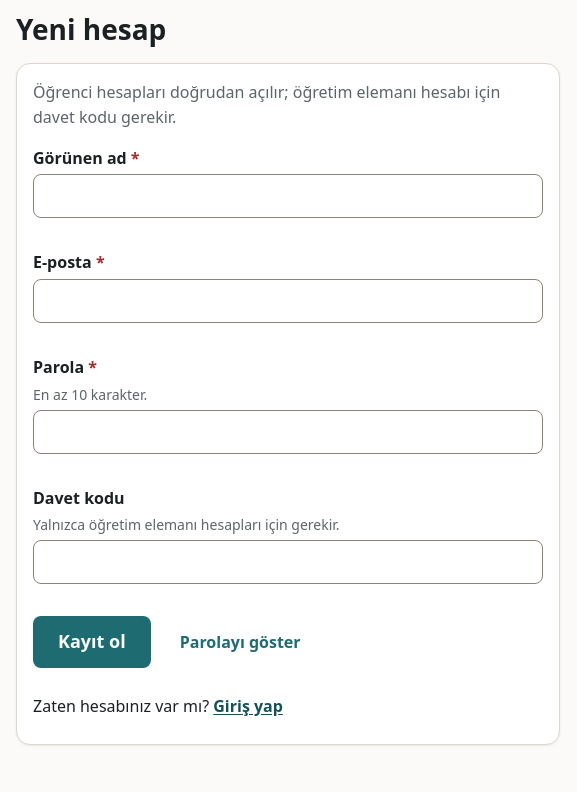
Test case: sign-up › refuses a password shorter than the API's minimum before sending it
The width and height of the screenshot is (577, 792).
Type "Ayşe" into the field labelled "Görünen ad *".
click(288, 196); type("Ayşe")  # box [33, 174, 543, 218]
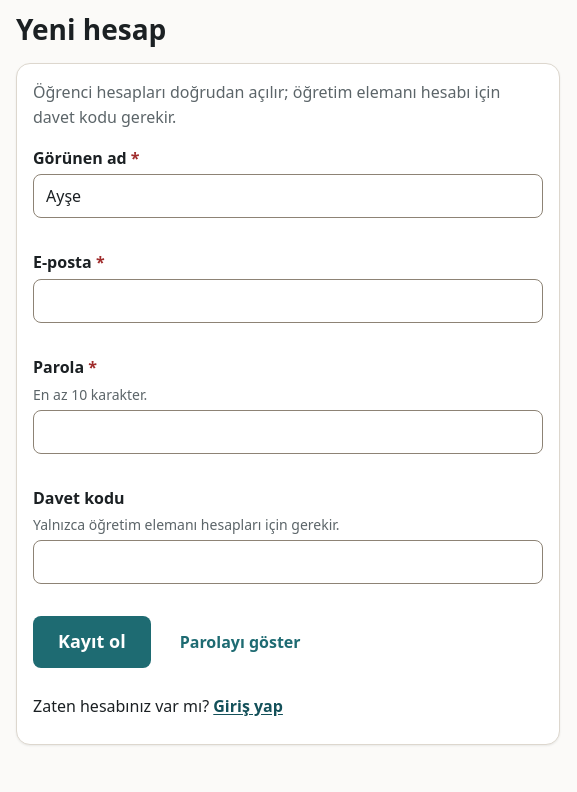
Type "a@ornek.edu.tr" into the field labelled "E-posta *".
click(288, 301); type("a@ornek.edu.tr")  # box [33, 279, 543, 323]
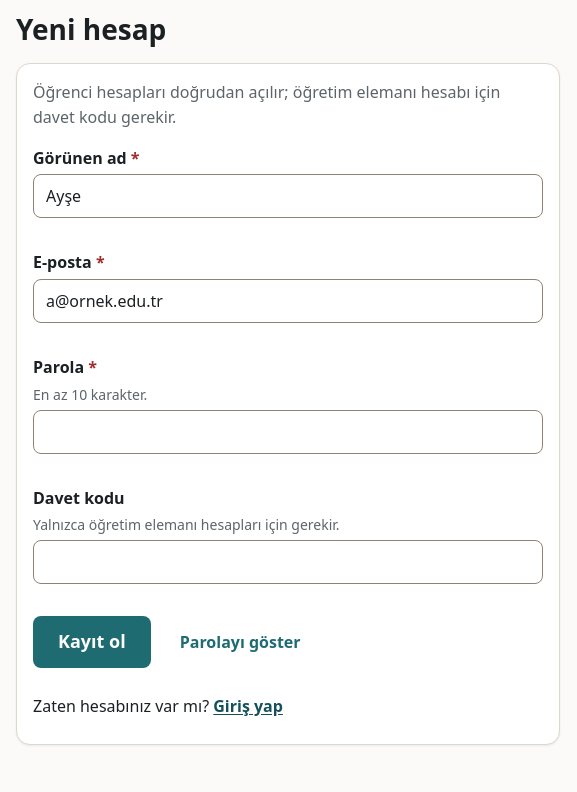
Type "kisa" into the password field labelled "Parola *".
click(288, 432); type("kisa")  # box [33, 410, 543, 454]
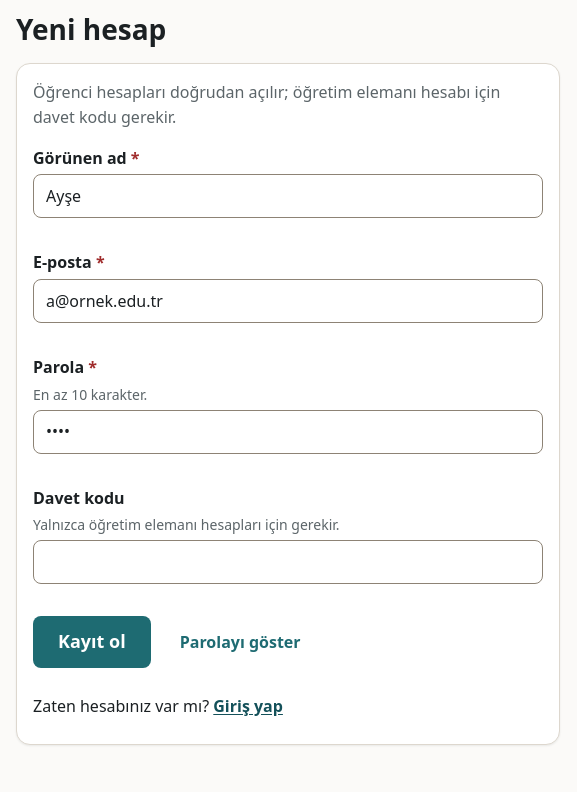
Click the button "Kayıt ol".
click(92, 642)  # box [33, 616, 151, 668]
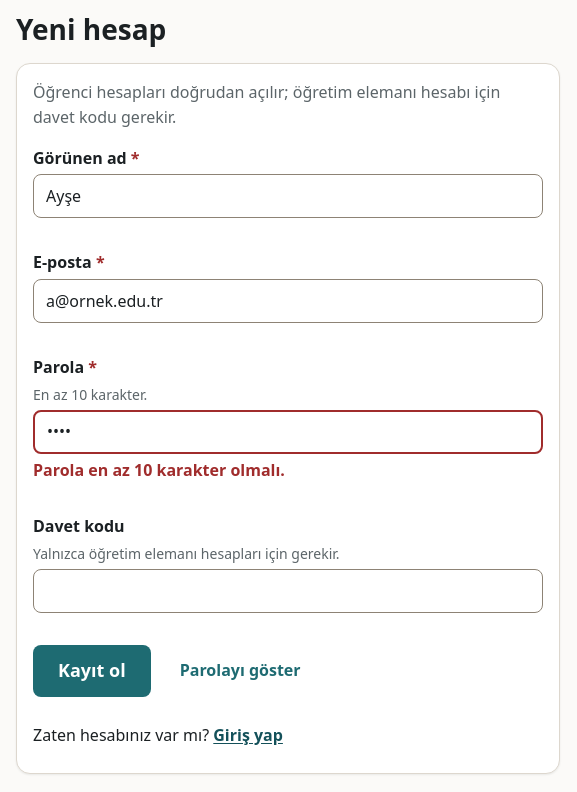
Expected: the text "Parola en az 10 karakter olmalı." is shown, [33, 459, 285, 481]
